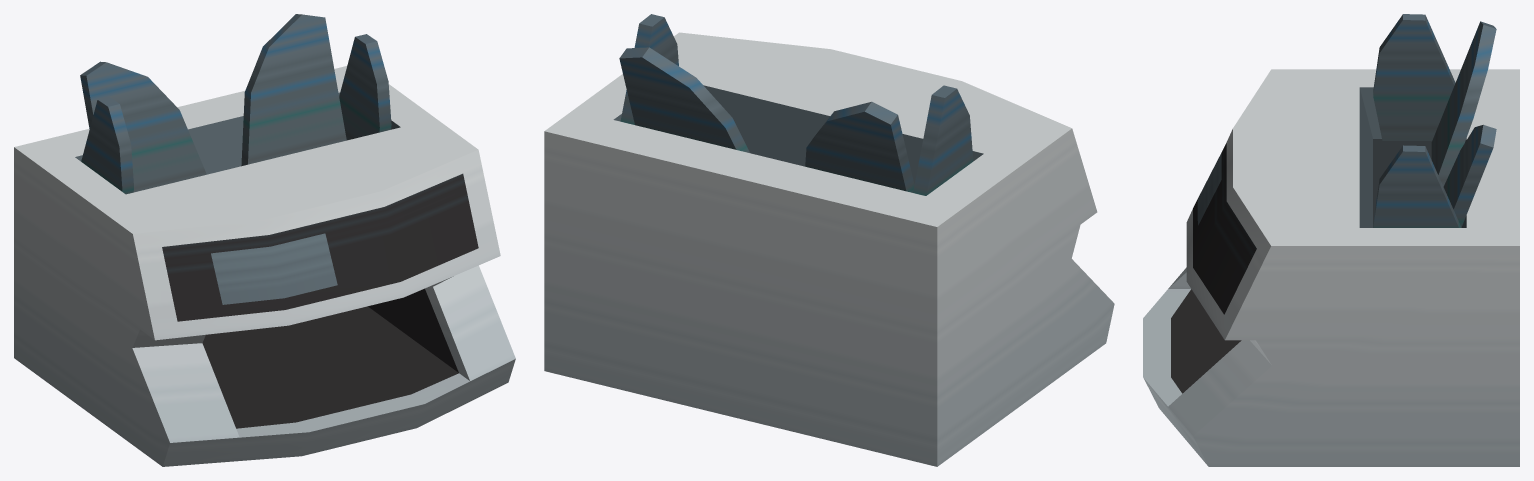
File: cash-machine-01.glb
3 renders of one model, left to right at view 1: azimuth 30°, elevation 25°; view 2: azimuth 150°, elevation 25°; view 3: azimuth 270°, elevation 25°, orthographic. The views are drawn at different scales.
Visible parts, largest first — view 1: Cash_Machine_01; view 2: Cash_Machine_01; view 3: Cash_Machine_01.
Boxes of the visible parts, box(x1,y1,x2,y2) form: Cash_Machine_01: box(14, 14, 515, 466); Cash_Machine_01: box(544, 14, 1114, 466); Cash_Machine_01: box(1143, 14, 1519, 466).
Size of the model in its own units: 0.4364 by 0.3502 by 0.3935.
Materials: 1 (1 with a texture image).
